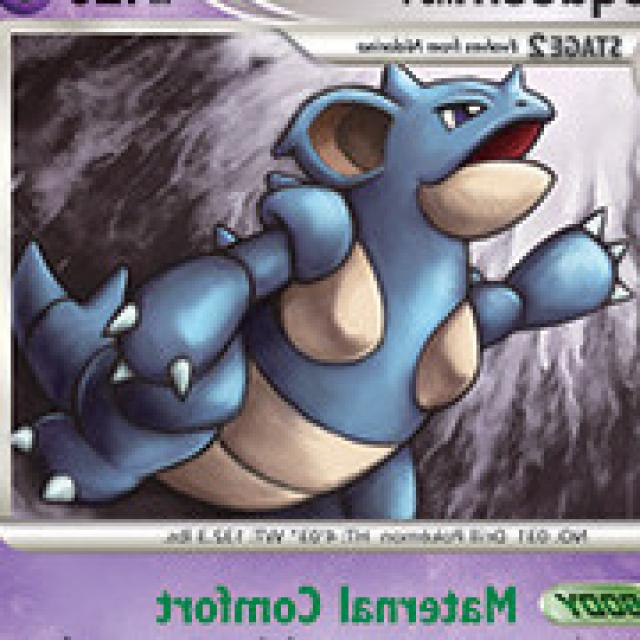Nidoqueen: (18, 68, 560, 530)
